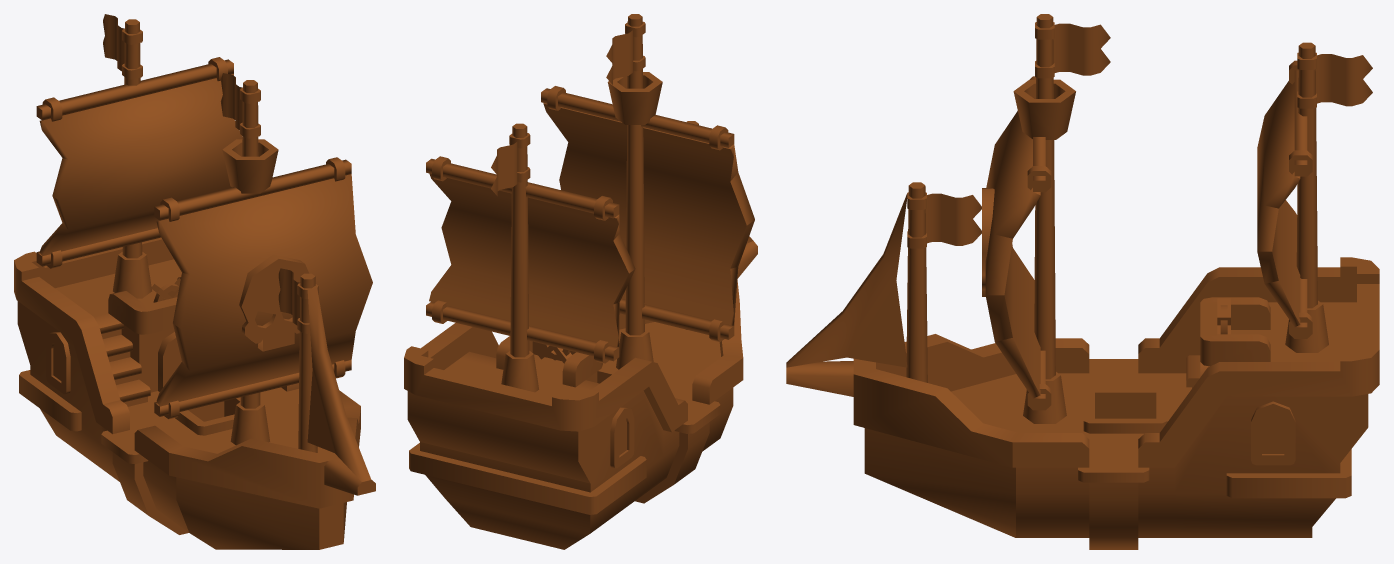
The model's file is ahip.glb.
3 renders of one model, left to right at view 1: azimuth 30°, elevation 25°; view 2: azimuth 150°, elevation 25°; view 3: azimuth 270°, elevation 25°, orthographic. The views are drawn at different scales.
Visible parts, largest first — view 1: ship-pirate-medium, sail-a, sail-b, flag-b, flag-c, flag-a; view 2: ship-pirate-medium, sail-a, sail-b, flag-c, flag-b; view 3: ship-pirate-medium, sail-a, sail-b, flag-b, flag-c, flag-a.
Part boxes in pixels (bbox=[...]): ship-pirate-medium: bbox=[14, 19, 375, 549]; sail-a: bbox=[154, 157, 372, 419]; sail-b: bbox=[36, 57, 242, 268]; flag-b: bbox=[220, 73, 260, 138]; flag-c: bbox=[103, 14, 142, 79]; flag-a: bbox=[278, 268, 318, 333]; ship-pirate-medium: bbox=[404, 14, 757, 549]; sail-a: bbox=[541, 86, 754, 341]; sail-b: bbox=[426, 156, 635, 363]; flag-c: bbox=[491, 133, 530, 196]; flag-b: bbox=[606, 21, 645, 84]; ship-pirate-medium: bbox=[786, 14, 1379, 549]; sail-a: bbox=[982, 76, 1051, 410]; sail-b: bbox=[1257, 60, 1312, 338]; flag-b: bbox=[1035, 22, 1110, 78]; flag-c: bbox=[1297, 52, 1372, 108]; flag-a: bbox=[907, 192, 981, 248].
Size of the model in its own units: 4.8 by 9.96 by 10.6.
